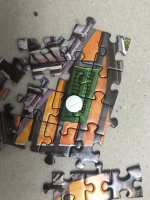Arveles: (65, 94, 83, 114)
